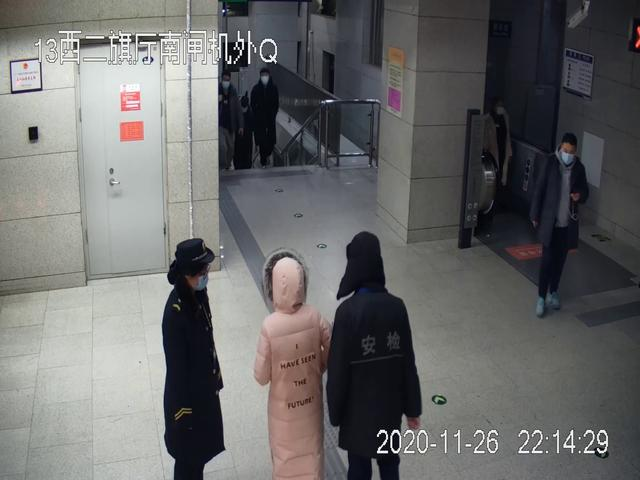person: (325, 224, 422, 480), (253, 248, 332, 480), (162, 238, 228, 480), (529, 134, 588, 318), (247, 66, 279, 169), (217, 70, 245, 175)
